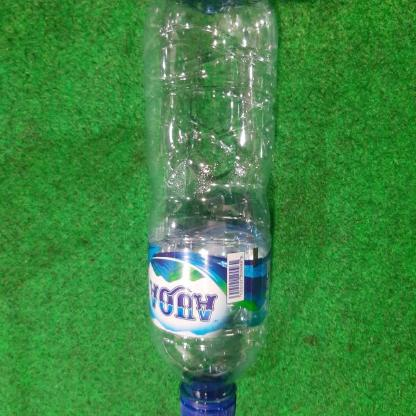Plastic Bottle: (147, 0, 283, 416)
